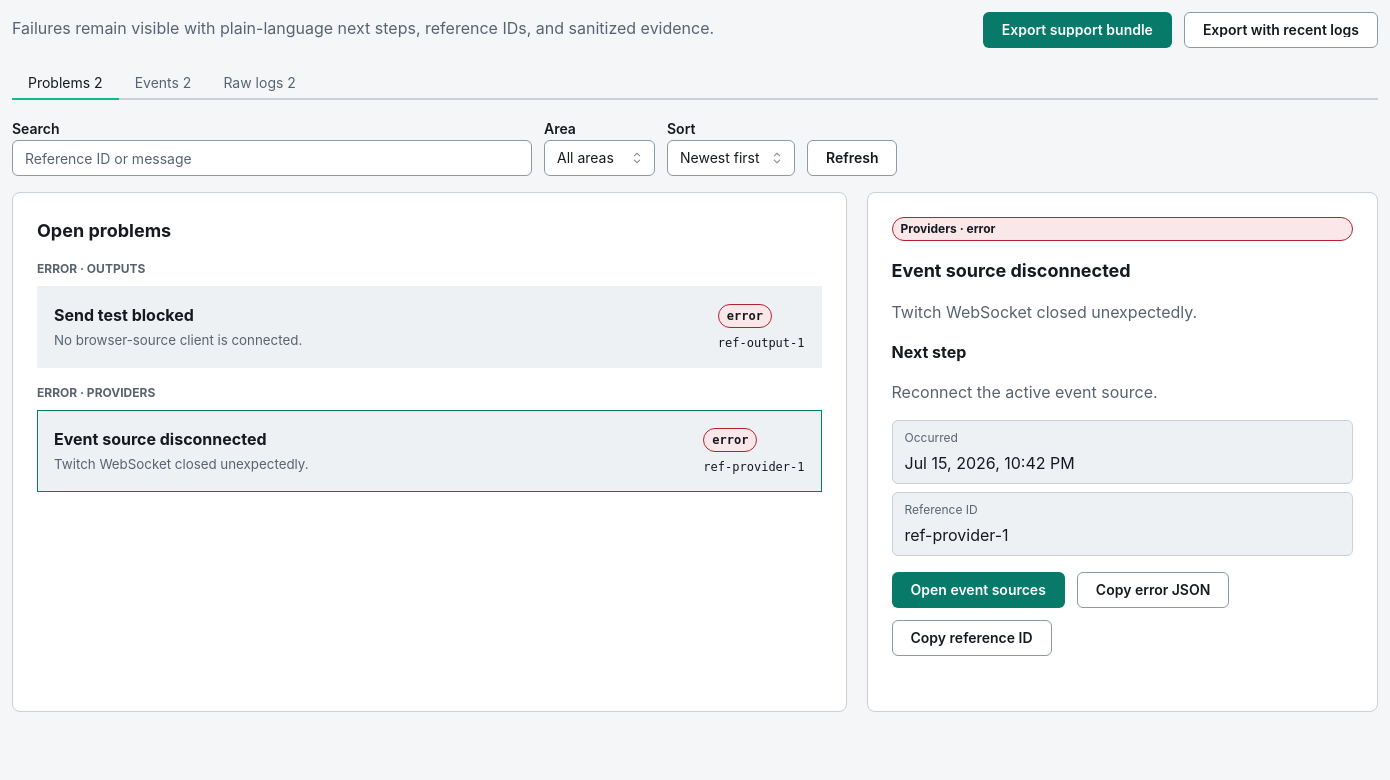
Test: DiagnosticsPanel › shows human-readable export failure recovery and preserves the backend reference ID
The width and height of the screenshot is (1390, 780).
Expected: the heading "Open problems" is shown, 37,217 -> 171,244
Click the button "Export support bundle". click: (1077, 30)
box: 983,12 -> 1172,48
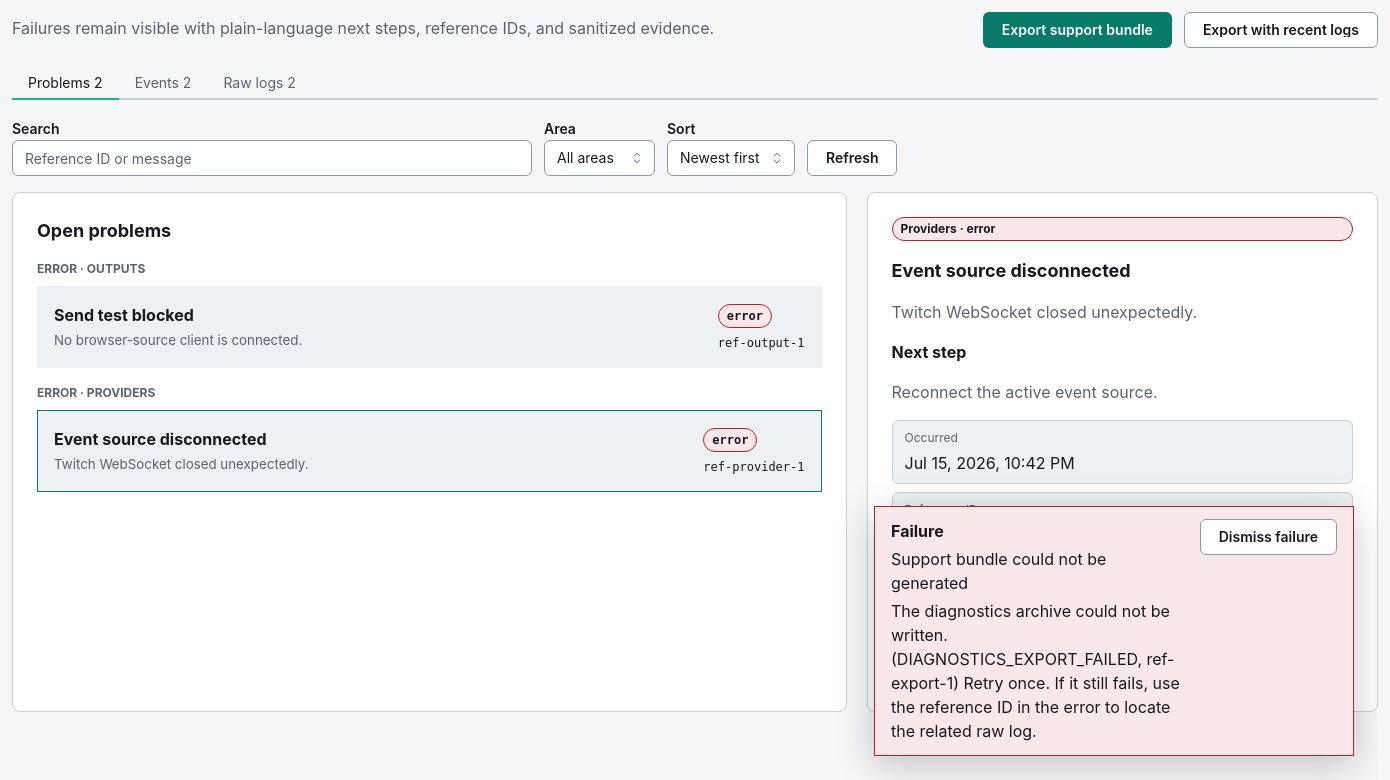
Expected: the text "Support bundle could not be generated" is shown, 891,549 -> 1106,593
Expected: the message shows "ref-export-1", 891,601 -> 1180,741
Expected: the message shows "Retry once", 891,601 -> 1180,741
